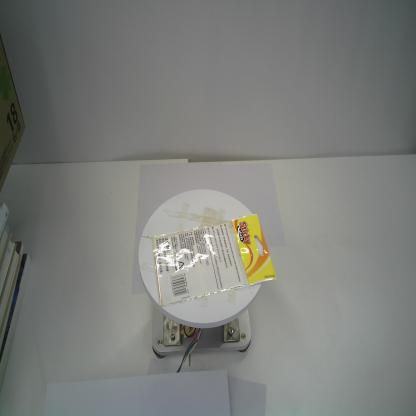Stationery: (152, 214, 278, 307)
